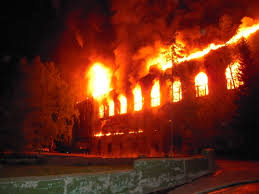fire: (82, 41, 253, 114)
